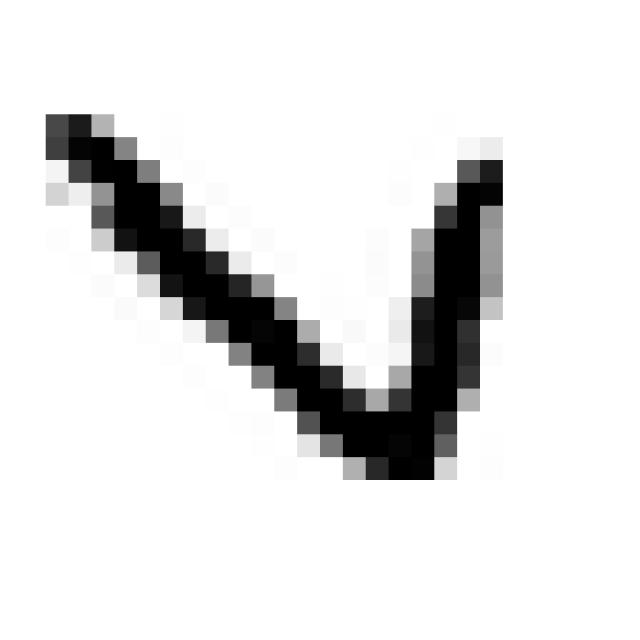7 -seven-: (28, 91, 522, 503)
